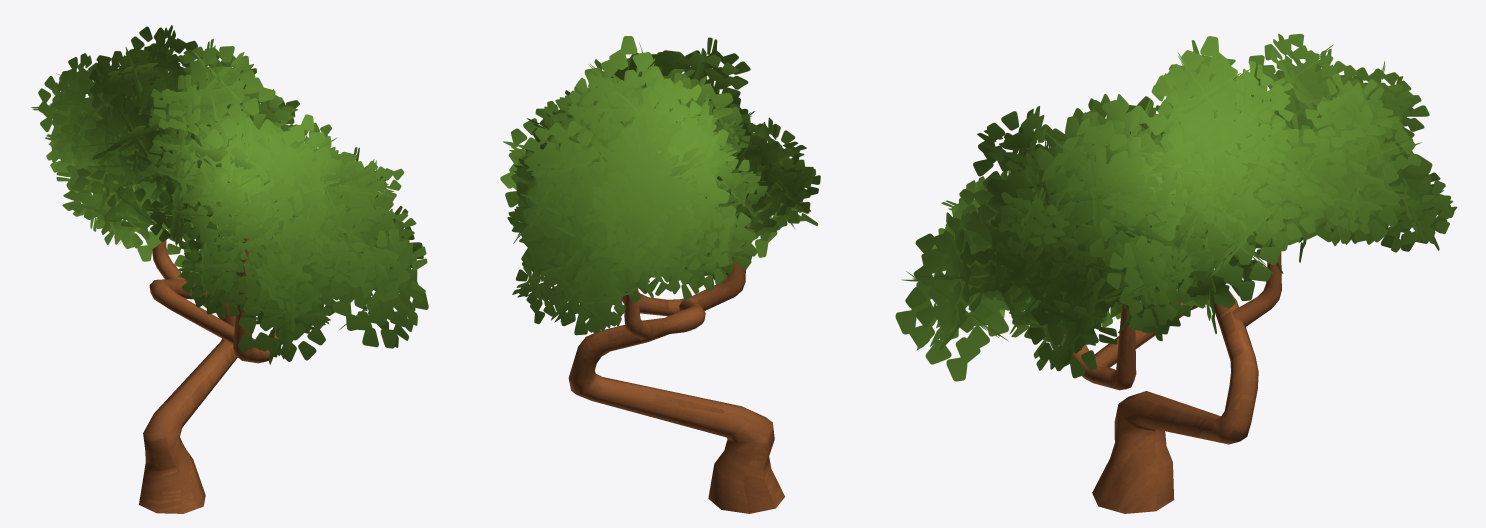
File: tree_bent.glb
3 views of the same model, side by side, from view 1: azimuth 30°, elevation 25°; view 2: azimuth 150°, elevation 25°; view 3: azimuth 270°, elevation 25° (orthographic). The views are drawn at different scales.
Parts seen in each view (by area): view 1: Leaf.001, Leaf.024; view 2: Leaf.001, Leaf.024; view 3: Leaf.001, Leaf.024.
Part boxes in pixels (x1,y1,x2,y2): Leaf.001: (31, 25, 428, 364); Leaf.024: (139, 225, 281, 513); Leaf.001: (500, 36, 820, 335); Leaf.024: (568, 157, 784, 513); Leaf.001: (895, 33, 1457, 381); Leaf.024: (1064, 246, 1281, 513).
Size of the model in its own units: 4.46 by 5.99 by 6.46.
2 materials, 2 textured.
